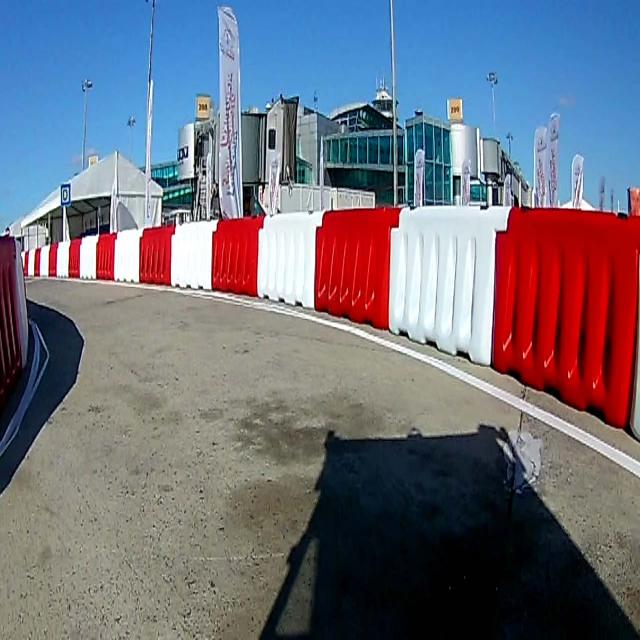durak: (60, 181, 72, 207)
